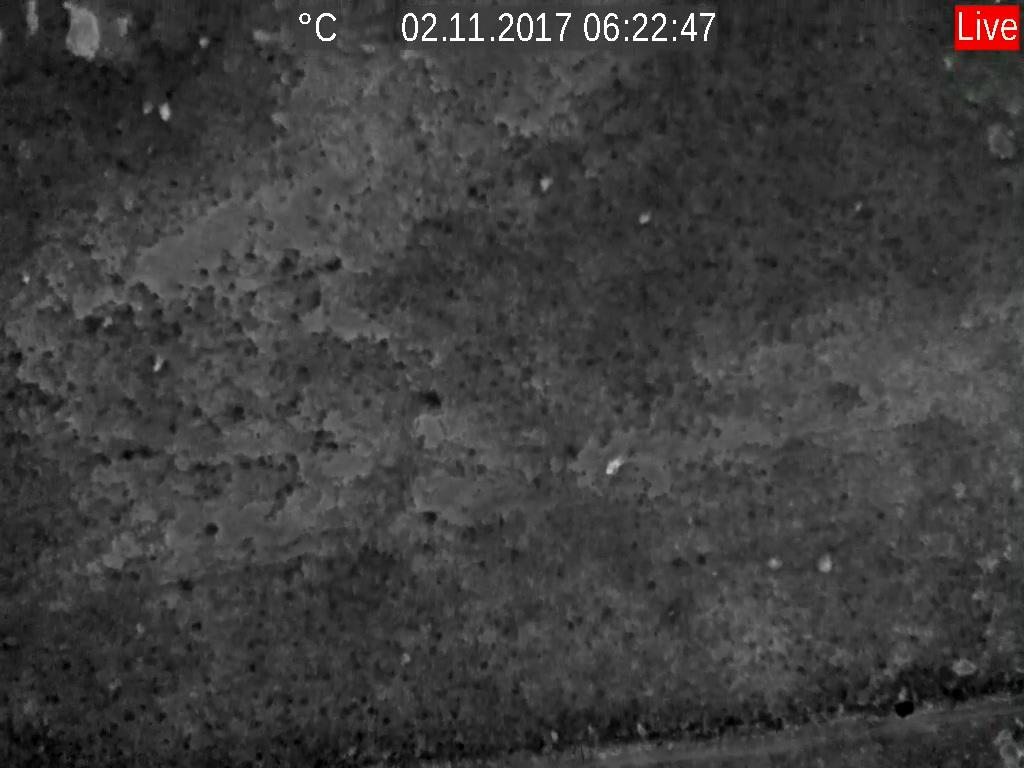warren: (601, 451, 627, 476), (154, 97, 176, 124), (148, 351, 168, 376)
